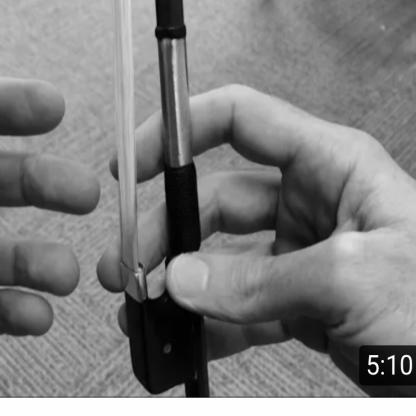good: (81, 54, 415, 397)
